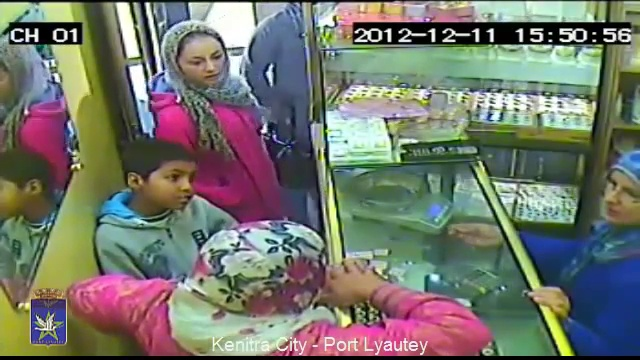face: (601, 167, 640, 227), (148, 167, 194, 212), (175, 44, 225, 83)
